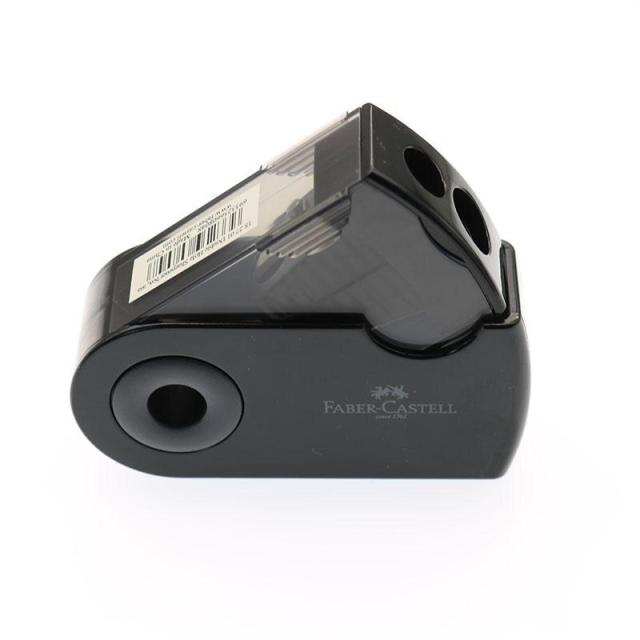pencil_sharpener: (51, 67, 540, 513)
